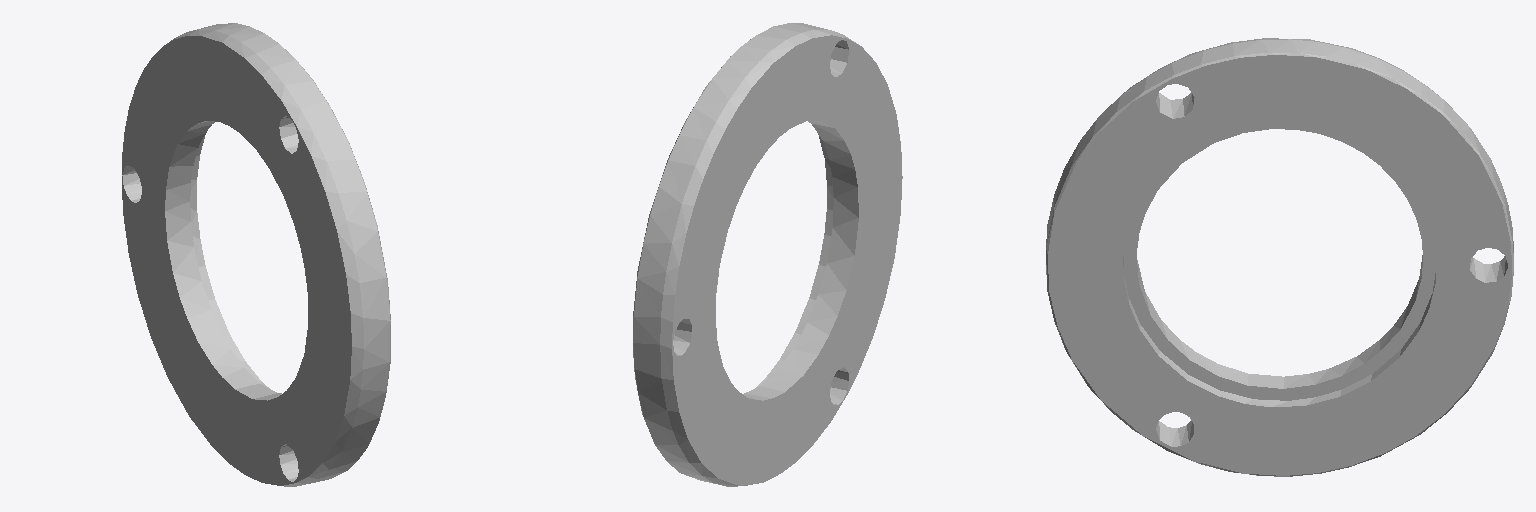
File: stuffing case.obj
3 renders of one model, left to right at view 1: azimuth 30°, elevation 25°; view 2: azimuth 150°, elevation 25°; view 3: azimuth 270°, elevation 25°, orthographic.
Visible parts, largest first — view 1: imagetostl_mesh0; view 2: imagetostl_mesh0; view 3: imagetostl_mesh0.
Boxes of the visible parts, box(x1,y1,x2,y2) form: imagetostl_mesh0: box(122, 23, 390, 486); imagetostl_mesh0: box(633, 23, 902, 486); imagetostl_mesh0: box(1046, 38, 1513, 476).
Bounding box in the file's own units: 23 × 242 × 242.